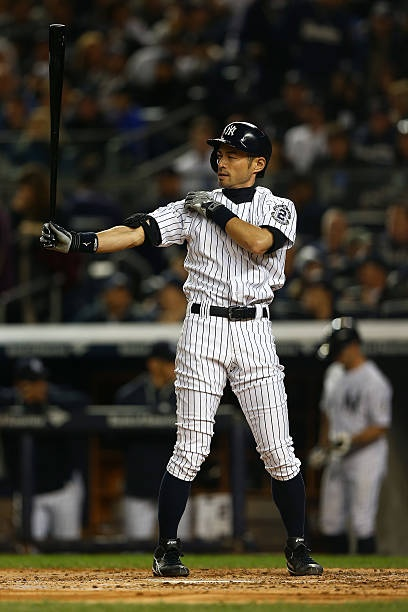bita: (38, 20, 73, 226)
